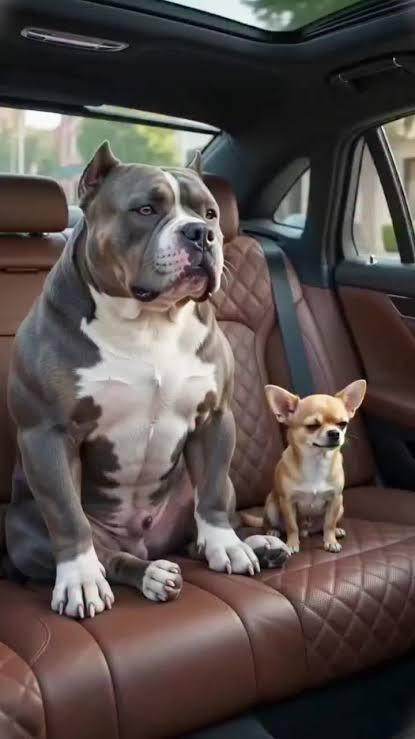adult_dog: (5, 139, 287, 621), (262, 378, 368, 555)
